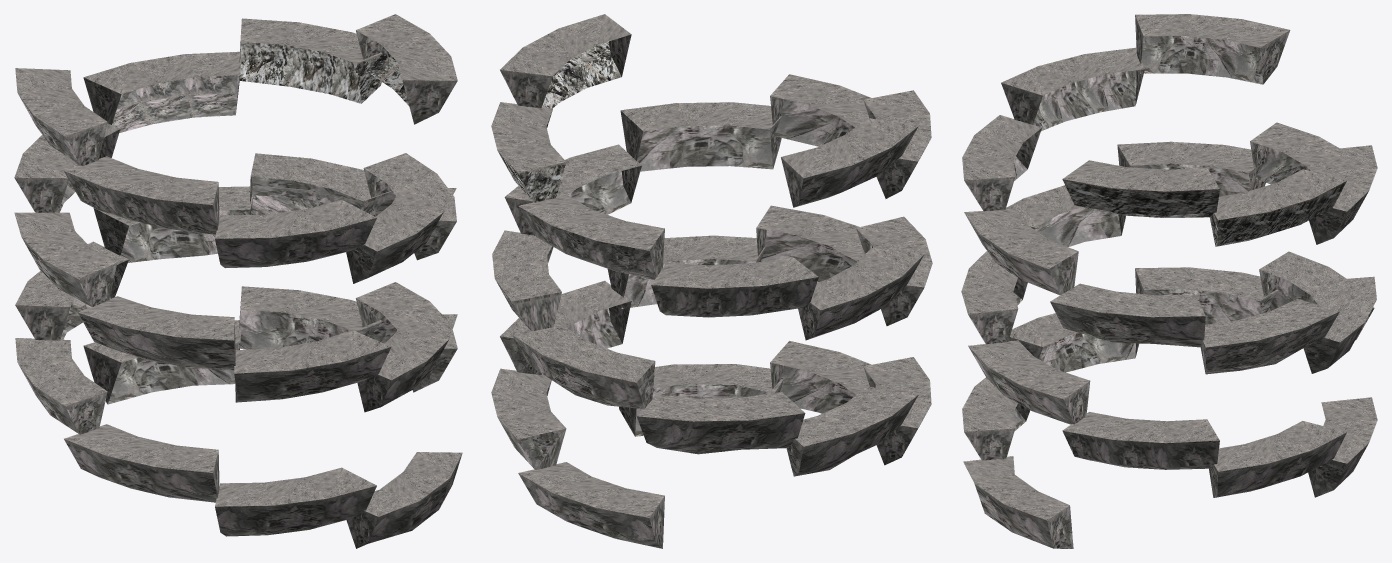
The model's file is Huan08.obj.
The picture shows the model from 3 angles, left to right: view 1: azimuth 30°, elevation 25°; view 2: azimuth 150°, elevation 25°; view 3: azimuth 270°, elevation 25°; orthographic projection. The views are drawn at different scales.
Parts seen in each view (by area): view 1: Huan08; view 2: Huan08; view 3: Huan08.
Part boxes in pixels (x1=…): Huan08: x1=14, y1=14, x2=462, y2=548; Huan08: x1=491, y1=14, x2=932, y2=548; Huan08: x1=961, y1=14, x2=1377, y2=548.
Bounding box in the file's own units: 600 × 618 × 600.
